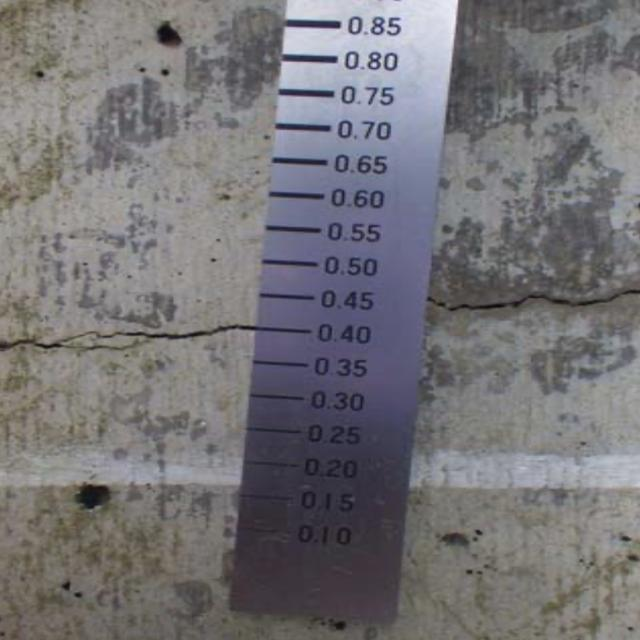crack: (427, 277, 640, 324), (0, 323, 260, 361)
